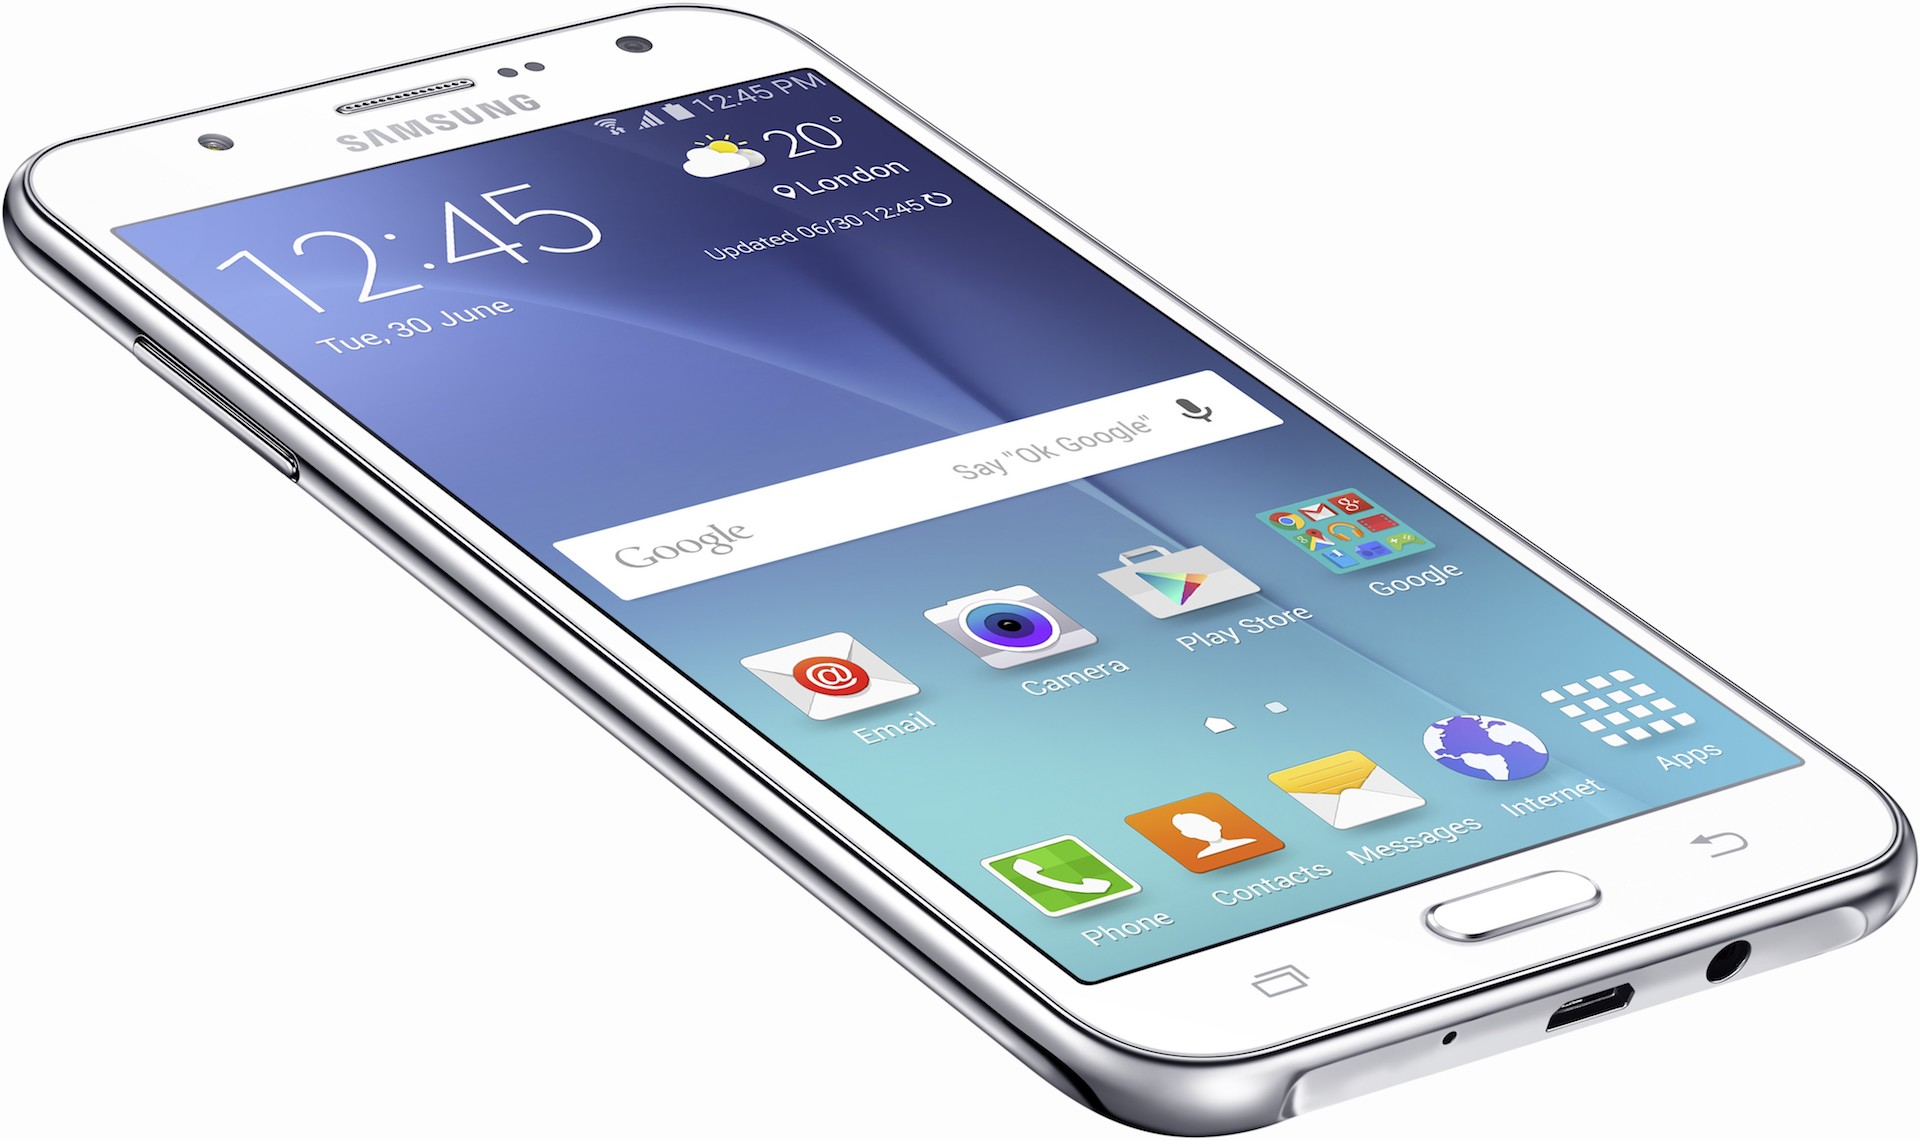smartphone: (4, 3, 1920, 1135)
